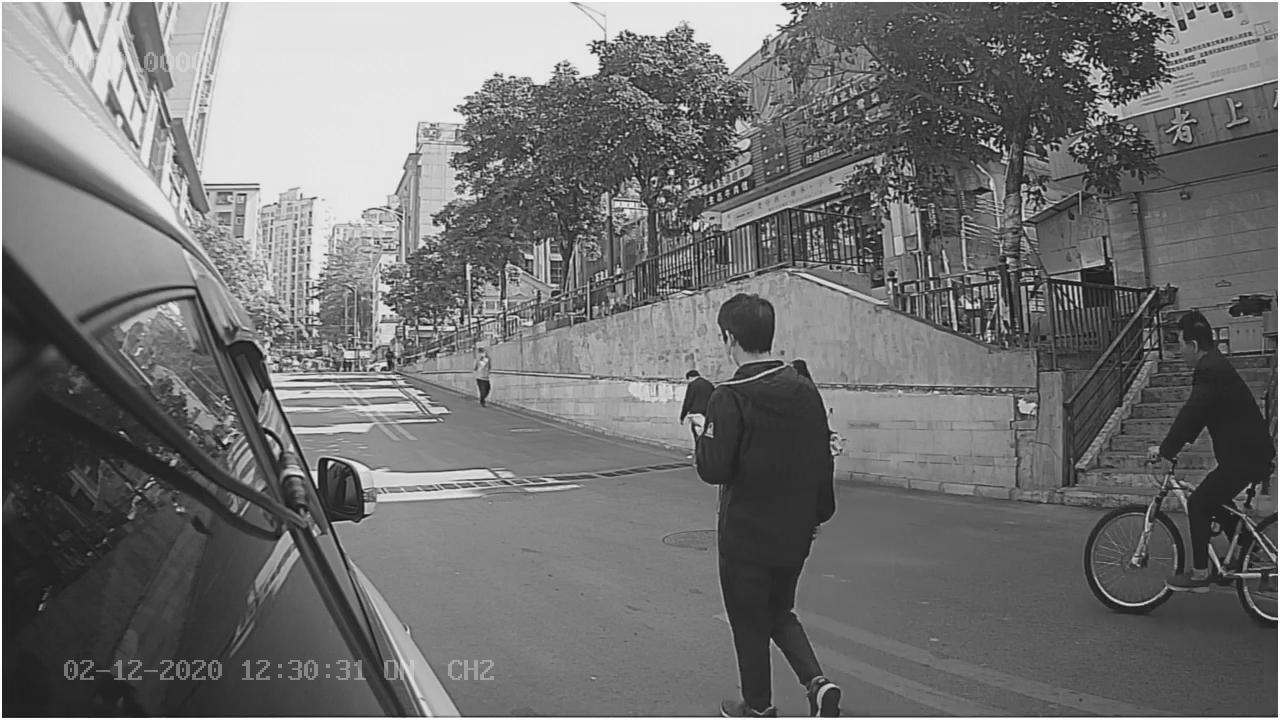person: (689, 295, 851, 495)
